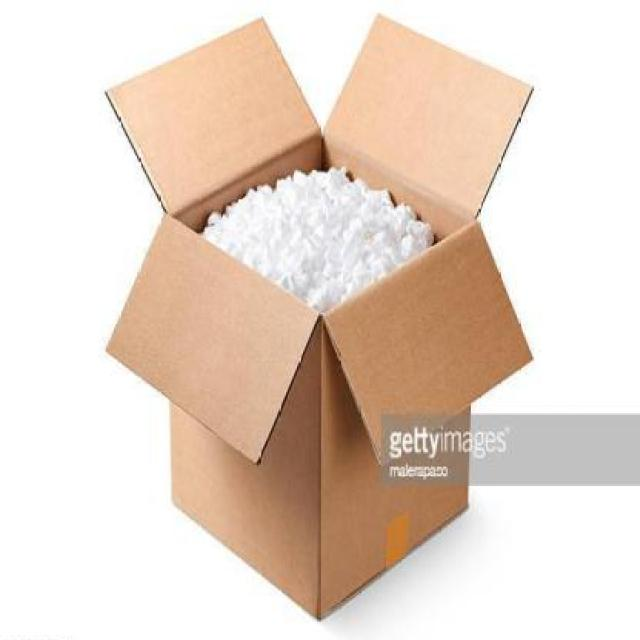box: (91, 6, 548, 624)
